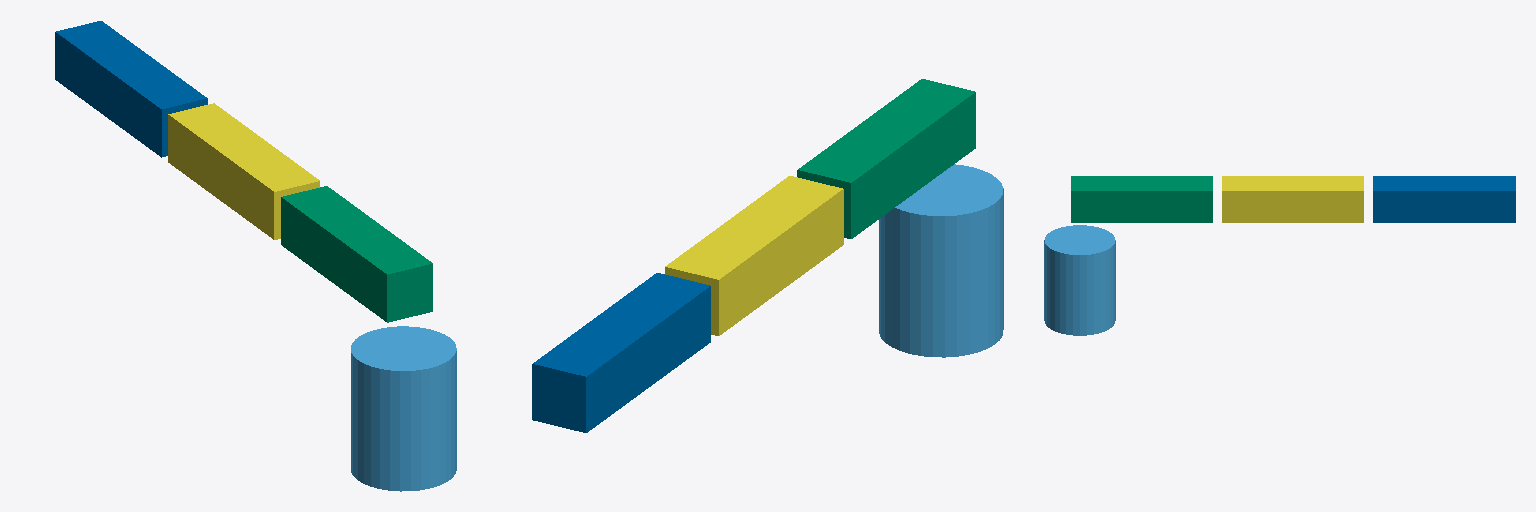
robot.urdf — template:
<?xml version="1.0"?>
<robot name="template">

    <!--World & Base -->	
    <link name="world">
    </link> 
    <joint name="base_joint" type="fixed">
        <origin xyz="0 0 0" rpy="0 0 0"/> 
        <parent link="world"/>
        <child link="base"/>
        <axis xyz="0 0 0"/>
    </joint>
    <link name="base">
        <inertial>
            <origin xyz="0 0 0" rpy="0 0 0"/>
            <mass value="1.0"/>
            <inertia ixx="0.1" iyy="0.1" izz="0.1" ixy="0" ixz="0" iyz="0"/>
        </inertial>
        <visual>
            <origin xyz="0 0 0" rpy="0 0 0"/>
            <geometry>
                <cylinder length="0.05" radius="0.02"/>
            </geometry> 
        </visual>
    </link> 

    <!--First Joint & Link  --> 
    <joint name="joint1" type="revolute">
        <origin xyz="0 0 0.0501" rpy="0 0 0"/> 
        <parent link="base"/>
        <child link="link1"/>
        <limit effort="300" velocity="100" lower="-3.14" upper="3.14" />
        <axis xyz="0 0 1"/>
    </joint> 
    <link name="link1">
        <inertial>
            <origin xyz="0 0.04 0" rpy="0 0 0"/>
            <mass value="1"/>
            <inertia ixx="0.001" iyy="0.001" izz="0.002" ixy="0" ixz="0" iyz="0"/>
        </inertial>
		<visual>
            <origin xyz="0 0.035 0" rpy="0 0 0"/>
            <geometry>
				<box size="0.02 0.08 0.02"/>
            </geometry>	
        </visual>
    </link>

    <!--Second Joint & Link  --> 
    <joint name="joint2" type="revolute">
        <origin xyz="0 0.085 0" rpy="0 0 0"/> 
        <parent link="link1"/>
        <child link="link2"/>
        <limit effort="300" velocity="100" lower="-3.14" upper="3.14" />
        <axis xyz="0 0 1"/>
    </joint> 
    <link name="link2">
        <inertial>
            <origin xyz="0 0.04 0" rpy="0 0 0"/>
            <mass value="1"/>
            <inertia ixx="0.001" iyy="0.001" izz="0.002" ixy="0" ixz="0" iyz="0"/>
        </inertial>
        <visual>
            <origin xyz="0 0.035 0" rpy="0 0 0"/>
            <geometry>
                <box size="0.02 0.08 0.02"/>
            </geometry> 
        </visual>
    </link>

    <!--Third Joint & Link  --> 
    <joint name="joint3" type="revolute">
        <origin xyz="0 0.085 0" rpy="0 0 0"/> 
        <parent link="link2"/>
        <child link="link3"/>
        <limit effort="300" velocity="100" lower="-3.14" upper="3.14" />
        <axis xyz="0 0 1"/>
    </joint> 
    <link name="link3">
        <inertial>
            <origin xyz="0 0.04 0" rpy="0 0 0"/>
            <mass value="1"/>
            <inertia ixx="0.001" iyy="0.001" izz="0.002" ixy="0" ixz="0" iyz="0"/>
        </inertial>
        <visual>
            <origin xyz="0 0.035 0" rpy="0 0 0"/>
            <geometry>
                <box size="0.02 0.08 0.02"/>
            </geometry> 
        </visual>
    </link>

    <!-- Legend for the libsea_plugin.so custom plugin 
    
        # The stiffness of the SEA joint is defined in the <stiffness> tag
        #
        # The two other tags enable the generation and publication of additional topics: the state publisher and 
        #      enable the subscription to external torque topic
    -->
    <gazebo>
        <plugin name="sea_j1" filename="libsea_plugin.so">
            <joint>joint1</joint>  
            <namespace>template_robot</namespace>
            <stiffness>10</stiffness>
            <pub_eltau>true</pub_eltau>
            <pub_state>true</pub_state>
            <sub_ext_tau>true</sub_ext_tau>
        </plugin>
    </gazebo>
    <gazebo>
        <plugin name="sea_j2" filename="libsea_plugin.so">
            <joint>joint2</joint>  
            <namespace>template_robot</namespace>
            <stiffness>10</stiffness>
            <pub_eltau>true</pub_eltau>
            <pub_state>true</pub_state>
            <sub_ext_tau>true</sub_ext_tau>
        </plugin>
    </gazebo>
    <gazebo>
        <plugin name="sea_j3" filename="libsea_plugin.so">
            <joint>joint3</joint>  
            <namespace>template_robot</namespace>
            <stiffness>10</stiffness>
            <pub_eltau>true</pub_eltau>
            <pub_state>true</pub_state>
            <sub_ext_tau>true</sub_ext_tau>
        </plugin>
    </gazebo>

</robot>

--- Facts derived from the render (not from the file) ---
The picture shows the robot from 3 angles, left to right: view 1: azimuth 30°, elevation 25°; view 2: azimuth 150°, elevation 25°; view 3: azimuth 270°, elevation 25°; orthographic projection.
Robot: template — 5 links, 4 joints (3 revolute, 1 fixed); root link world; default pose: all joints at 0.
Visible links, largest first — view 1: base, link1, link3, link2; view 2: base, link3, link2, link1; view 3: base, link3, link1, link2.
Boxes of the visible links, x1=… form: base: x1=351, y1=326, x2=456, y2=491; link1: x1=281, y1=186, x2=432, y2=322; link3: x1=55, y1=21, x2=207, y2=157; link2: x1=168, y1=103, x2=319, y2=239; base: x1=879, y1=164, x2=1003, y2=357; link3: x1=532, y1=273, x2=710, y2=432; link2: x1=665, y1=176, x2=843, y2=335; link1: x1=797, y1=79, x2=975, y2=238; base: x1=1044, y1=225, x2=1115, y2=335; link3: x1=1373, y1=176, x2=1515, y2=222; link1: x1=1071, y1=176, x2=1212, y2=222; link2: x1=1222, y1=176, x2=1363, y2=222.
Bounding box of the posed robot: 0.04 × 0.265 × 0.0851 m (x, y, z).
Geometry: primitives only (box / cylinder / sphere), no mesh files.